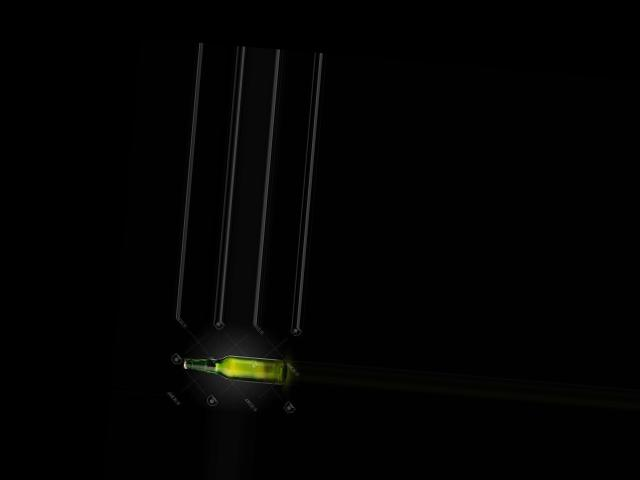beer: (182, 350, 286, 383)
